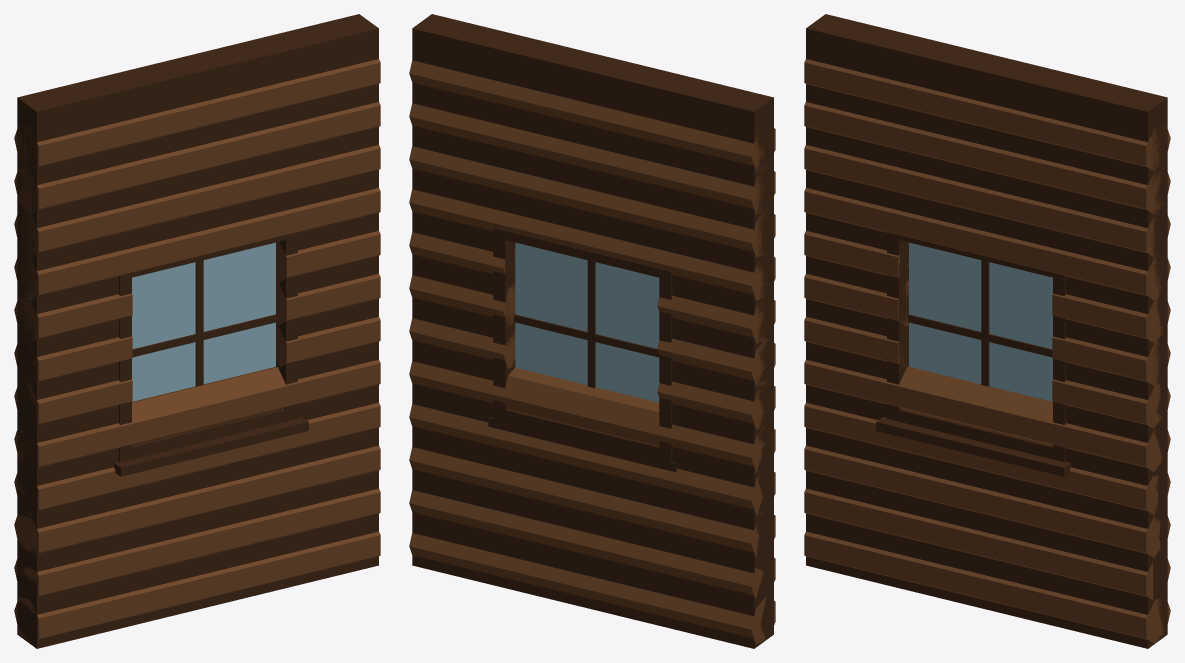
Rendered from SM_Wall_Log_Window.obj.
The picture shows the model from 3 angles, left to right: view 1: azimuth 30°, elevation 25°; view 2: azimuth 150°, elevation 25°; view 3: azimuth 330°, elevation 25°; orthographic projection.
Parts seen in each view (by area): view 1: SM_Wall_Log_Window; view 2: SM_Wall_Log_Window; view 3: SM_Wall_Log_Window.
Boxes of the visible parts, x1,y1,x2,y2 form: SM_Wall_Log_Window: [14, 14, 380, 648]; SM_Wall_Log_Window: [409, 14, 775, 648]; SM_Wall_Log_Window: [804, 14, 1170, 648].
Bounding box in the file's own units: 2 × 3 × 0.3.
